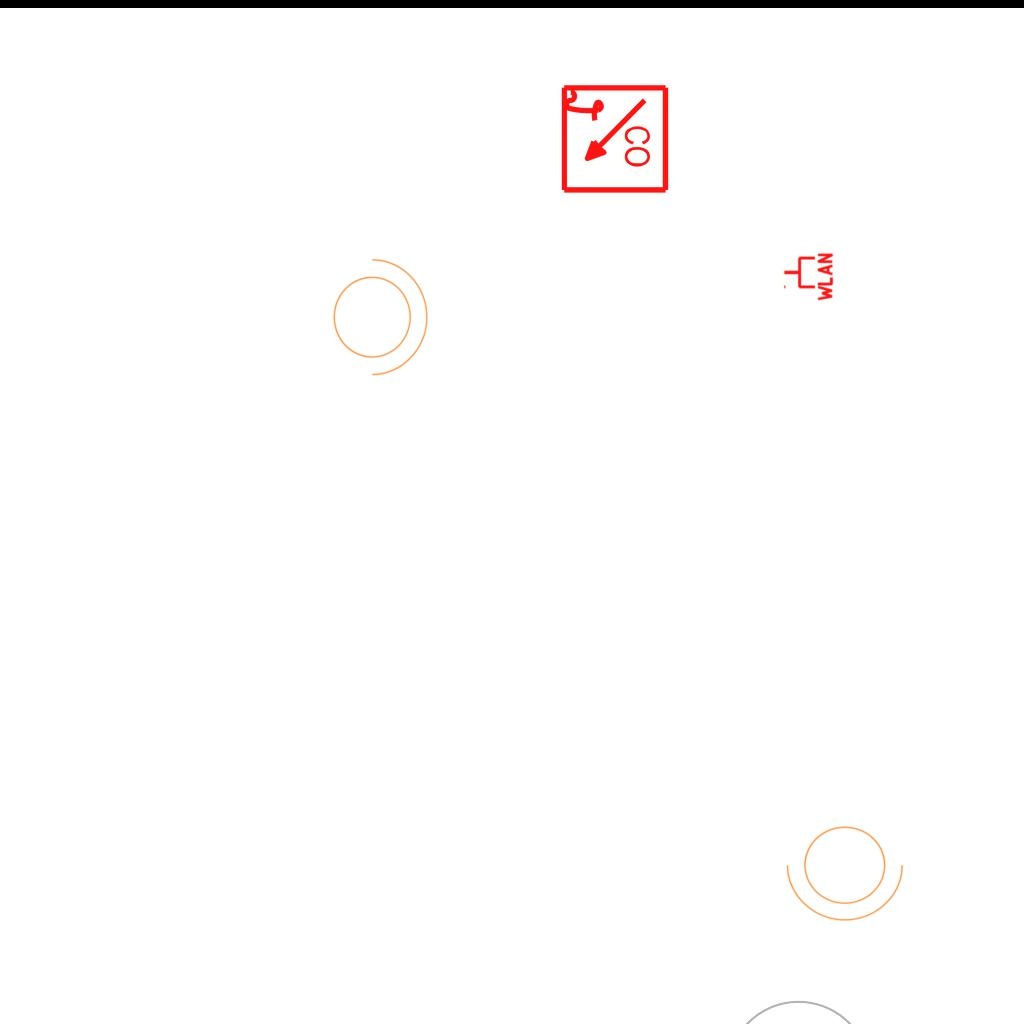ROA_Rauchmelder_optisch_mit_Signalgeber_(Sockelsirene): (557, 83, 670, 196)
Scheinwerfer_fuer_Alarmbeleuchtung: (782, 814, 914, 926), (321, 248, 433, 380)
WLAN: (782, 251, 834, 303)
